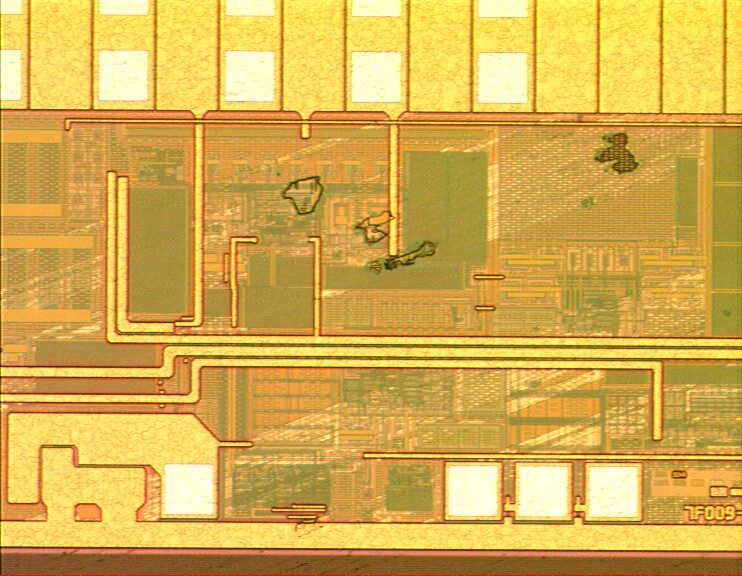SCRATCH: (1, 89, 742, 555)
